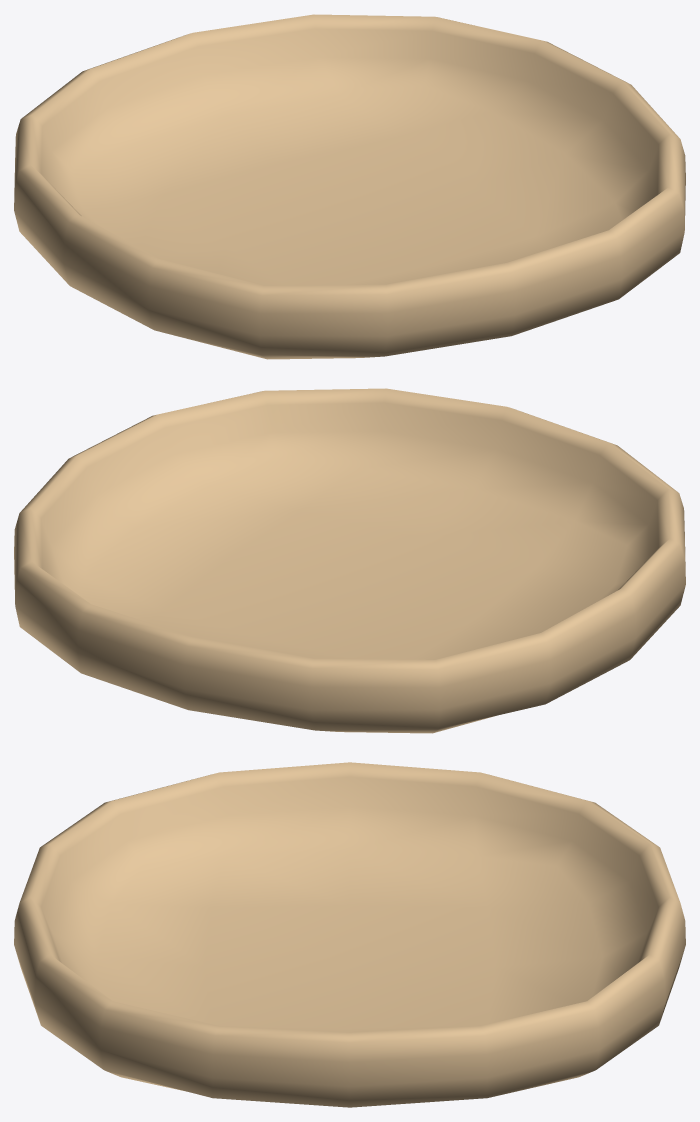
The model's file is SmallDish.fbx.
The picture shows the model from 3 angles, top to bottom: view 1: azimuth 30°, elevation 25°; view 2: azimuth 150°, elevation 25°; view 3: azimuth 270°, elevation 25°; orthographic projection.
Visible parts, largest first — view 1: SmallDish; view 2: SmallDish; view 3: SmallDish.
Part boxes in pixels (x1=…): SmallDish: x1=14, y1=14, x2=685, y2=359; SmallDish: x1=14, y1=388, x2=685, y2=733; SmallDish: x1=14, y1=762, x2=685, y2=1107.
Bounding box in the file's own units: 23.29 × 3.81 × 23.29.
